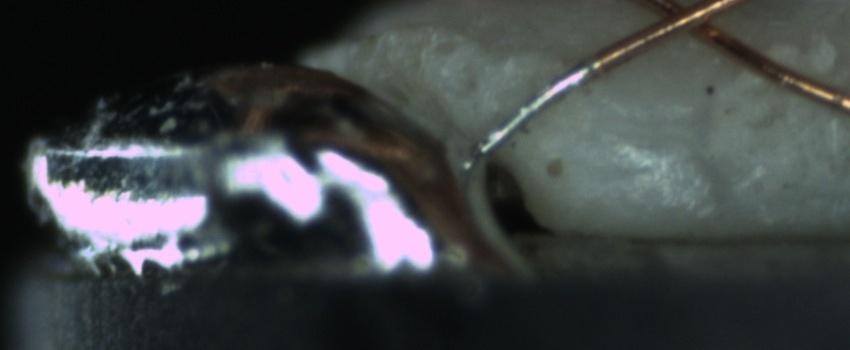CL: (631, 1, 738, 45)
DL: (616, 101, 692, 163)
TS: (476, 60, 598, 157)
